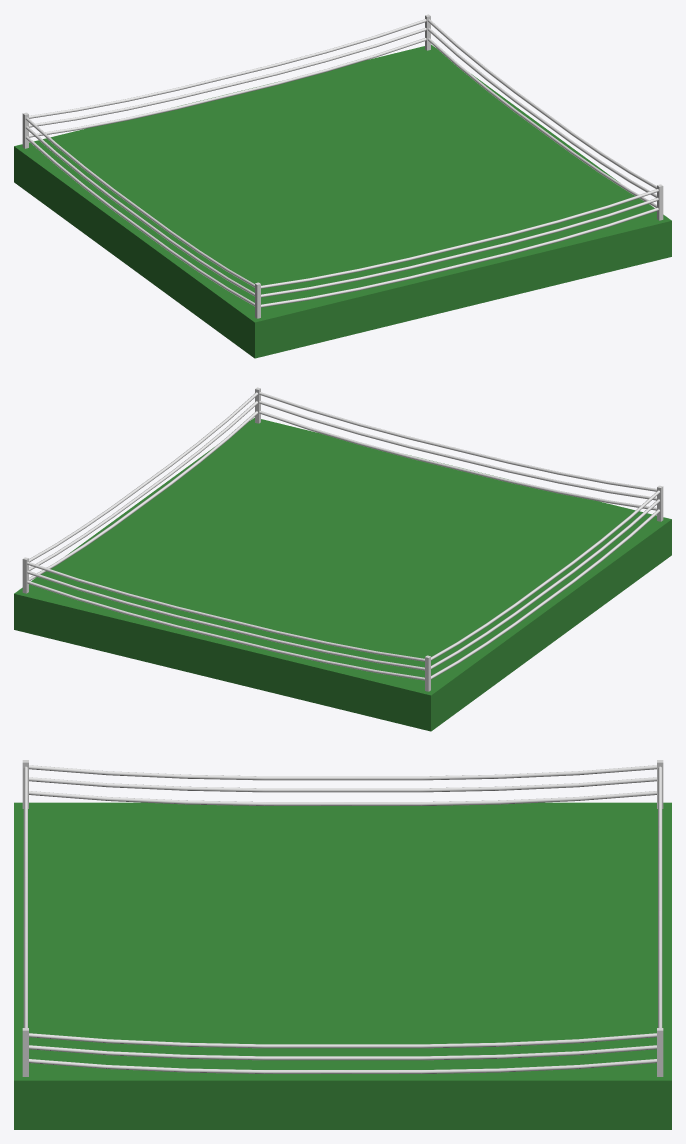
The model's file is ring.fbx.
The picture shows the model from 3 angles, top to bottom: view 1: azimuth 30°, elevation 25°; view 2: azimuth 150°, elevation 25°; view 3: azimuth 270°, elevation 25°; orthographic projection. The views are drawn at different scales.
Visible parts, largest first — view 1: floor, rope_1 (×4), rope_2 (×4), rope_3 (×4); view 2: floor, rope_1 (×4), rope_2 (×4), rope_3 (×4); view 3: floor, rope_1 (×4), rope_2 (×2), rope_3 (×2).
Part boxes in pixels (<box>): floor: <box>14,44,671,358</box>; rope_1 (×4): <box>25,19,658,288</box>; rope_2 (×4): <box>26,27,658,297</box>; rope_3 (×4): <box>26,38,658,307</box>; floor: <box>14,417,671,731</box>; rope_1 (×4): <box>27,392,660,661</box>; rope_2 (×4): <box>27,400,659,670</box>; rope_3 (×4): <box>27,411,659,680</box>; floor: <box>14,802,671,1129</box>; rope_1 (×4): <box>23,765,662,1048</box>; rope_2 (×2): <box>29,777,656,1060</box>; rope_3 (×2): <box>29,791,656,1073</box>.
Bounding box in the file's own units: 15 × 2.4 × 15.
